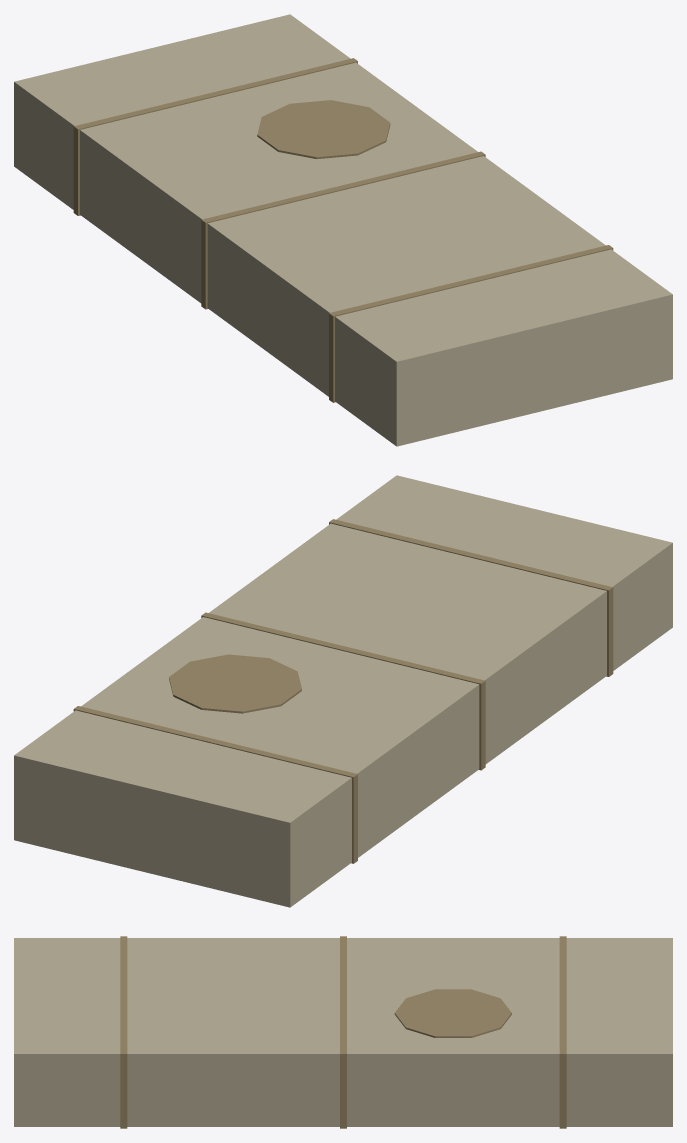
File: cell_mattress.glb
3 views of the same model, one above another, from view 1: azimuth 30°, elevation 25°; view 2: azimuth 150°, elevation 25°; view 3: azimuth 270°, elevation 25° (orthographic). The views are drawn at different scales.
Visible parts, largest first — view 1: mattress_mattress_cloth, seams_mattress_stain, stain_mattress_stain; view 2: mattress_mattress_cloth, seams_mattress_stain, stain_mattress_stain; view 3: mattress_mattress_cloth, stain_mattress_stain, seams_mattress_stain.
Part boxes in pixels (x1,y1,x2,y2): mattress_mattress_cloth: (14, 14, 672, 446); seams_mattress_stain: (73, 58, 613, 402); stain_mattress_stain: (257, 100, 390, 158); mattress_mattress_cloth: (14, 475, 672, 907); seams_mattress_stain: (73, 519, 613, 863); stain_mattress_stain: (169, 654, 301, 713); mattress_mattress_cloth: (14, 938, 672, 1126); stain_mattress_stain: (394, 989, 511, 1037); seams_mattress_stain: (120, 936, 566, 1128).
Bounding box in the file's own units: 0.76 × 0.2275 × 1.8.
